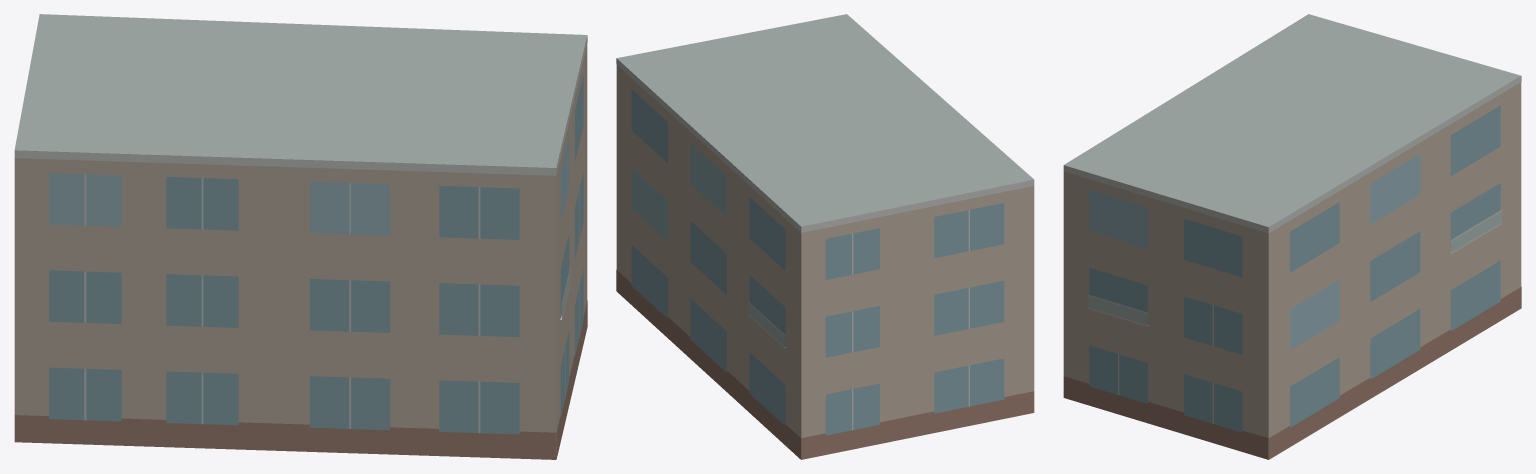
File: survey-upis-32707474.glb
3 views of the same model, side by side, from view 1: azimuth 30°, elevation 25°; view 2: azimuth 150°, elevation 25°; view 3: azimuth 270°, elevation 25° (orthographic). The views are drawn at different scales.
Visible parts, largest first — view 1: survey-upis-32707474.tmp; view 2: survey-upis-32707474.tmp; view 3: survey-upis-32707474.tmp.
Boxes of the visible parts, x1,y1,x2,y2 form: survey-upis-32707474.tmp: [14, 14, 587, 459]; survey-upis-32707474.tmp: [616, 14, 1034, 459]; survey-upis-32707474.tmp: [1063, 14, 1521, 459].
Bounding box in the file's own units: 17.99 × 9.15 × 16.32.
